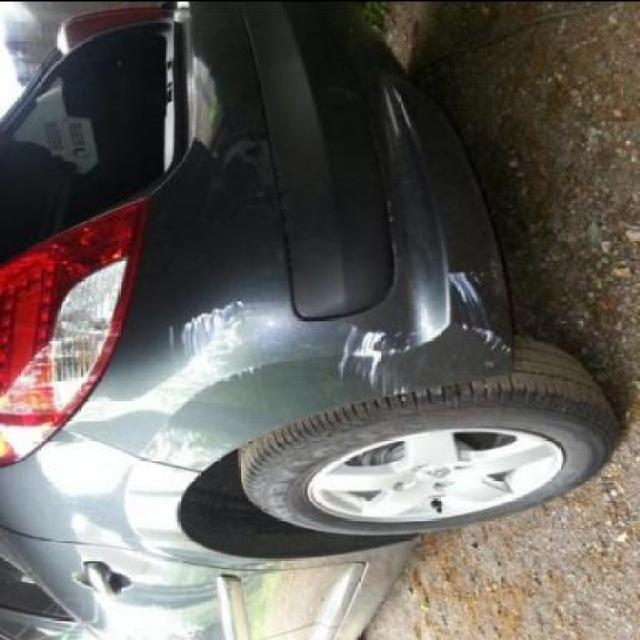damage: (171, 305, 266, 397), (338, 324, 421, 388), (444, 269, 502, 352)
